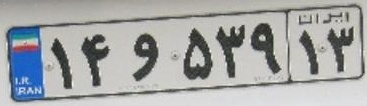character: (77, 28, 113, 89), (126, 27, 162, 86), (214, 18, 248, 80), (250, 18, 283, 79), (180, 24, 214, 82), (44, 34, 74, 92), (326, 24, 356, 75), (296, 28, 322, 77)
